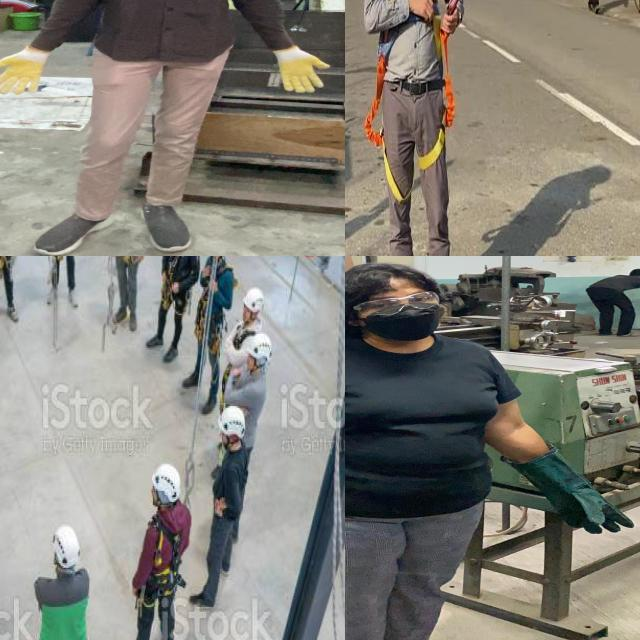Harness: (364, 51, 411, 202), (419, 16, 456, 170), (137, 506, 191, 604), (193, 256, 229, 342), (155, 256, 200, 313)
face_mask: (355, 288, 443, 338)
glasses: (345, 288, 446, 316)
hand_glove: (534, 476, 640, 538), (263, 47, 336, 96), (0, 46, 53, 97)
head_nohelmet: (345, 257, 431, 300)
person: (345, 260, 640, 640), (0, 0, 345, 256)
shoes: (24, 202, 124, 256), (129, 198, 195, 255)
